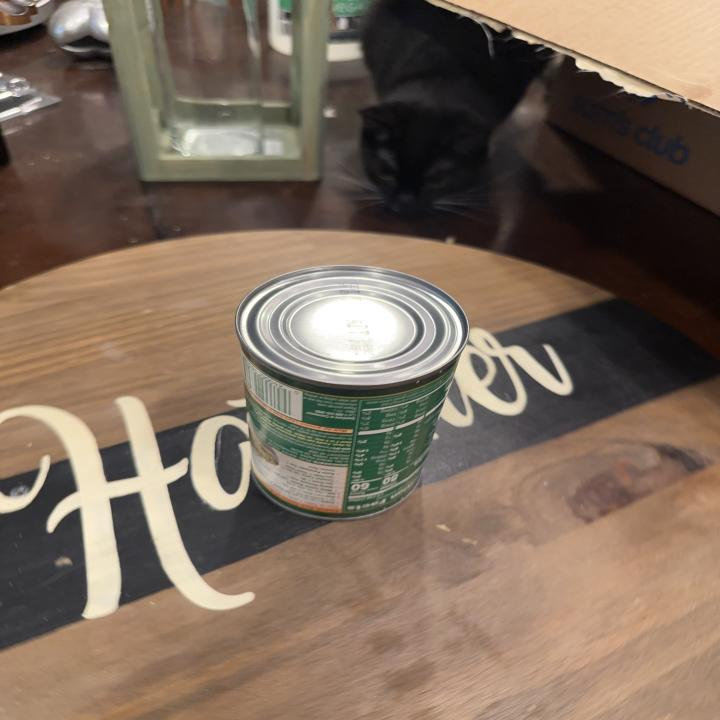Canned-Peas: (234, 259, 474, 523)
